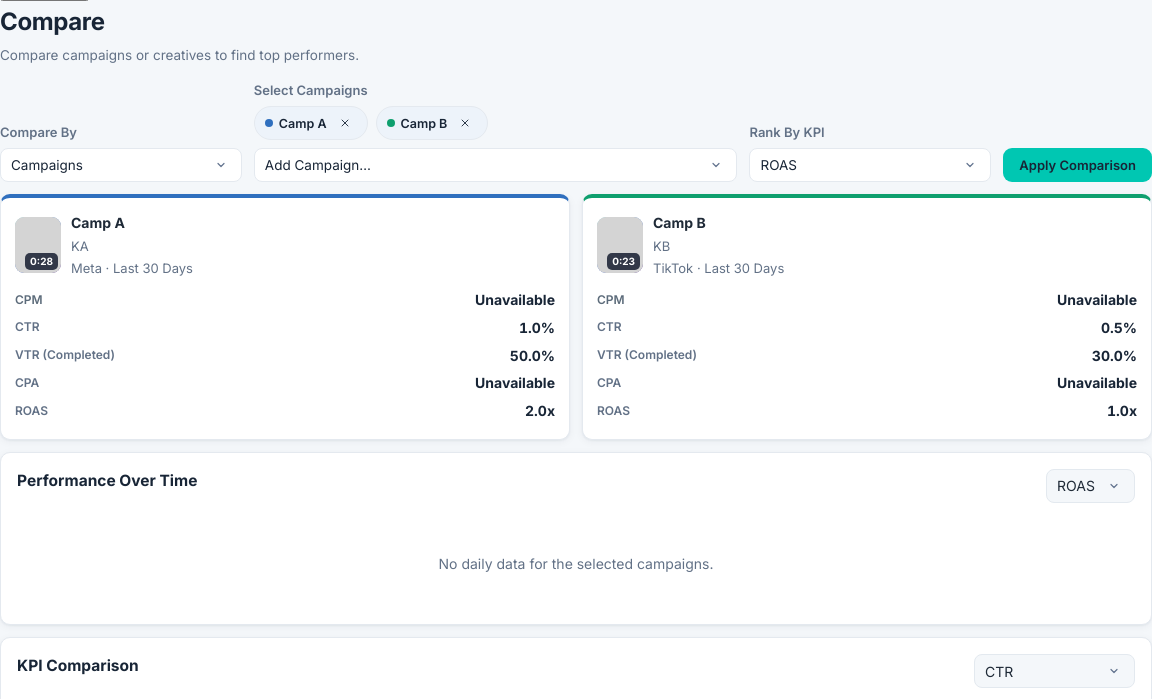
Test case: ComparePage › compares creatives with chips and backend ranking
The image size is (1152, 699).
expect the heading "Performance Over Time" is shown: met, box x1=17 y1=471 x2=198 y2=490
Select "Creatives" in the dropdown labelled "Compare By" at [121, 165], box x1=0 y1=148 x2=242 y2=182
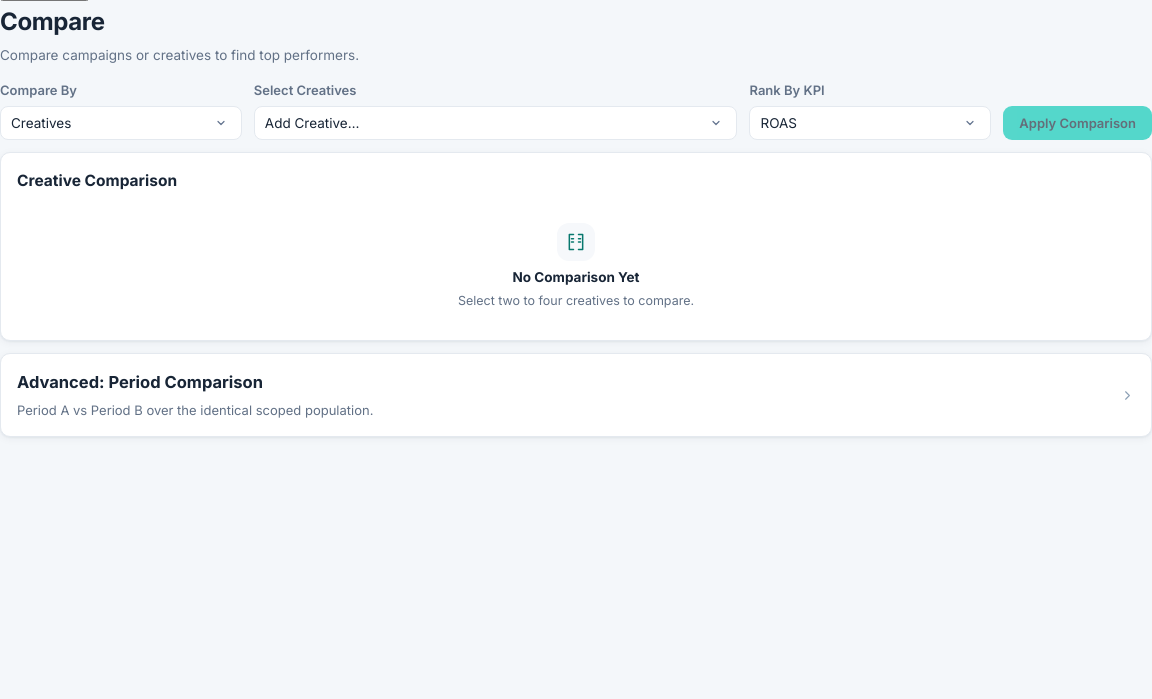
Select "KB" in the dropdown labelled "Select Creatives" at [496, 123], box x1=254 y1=106 x2=738 y2=140
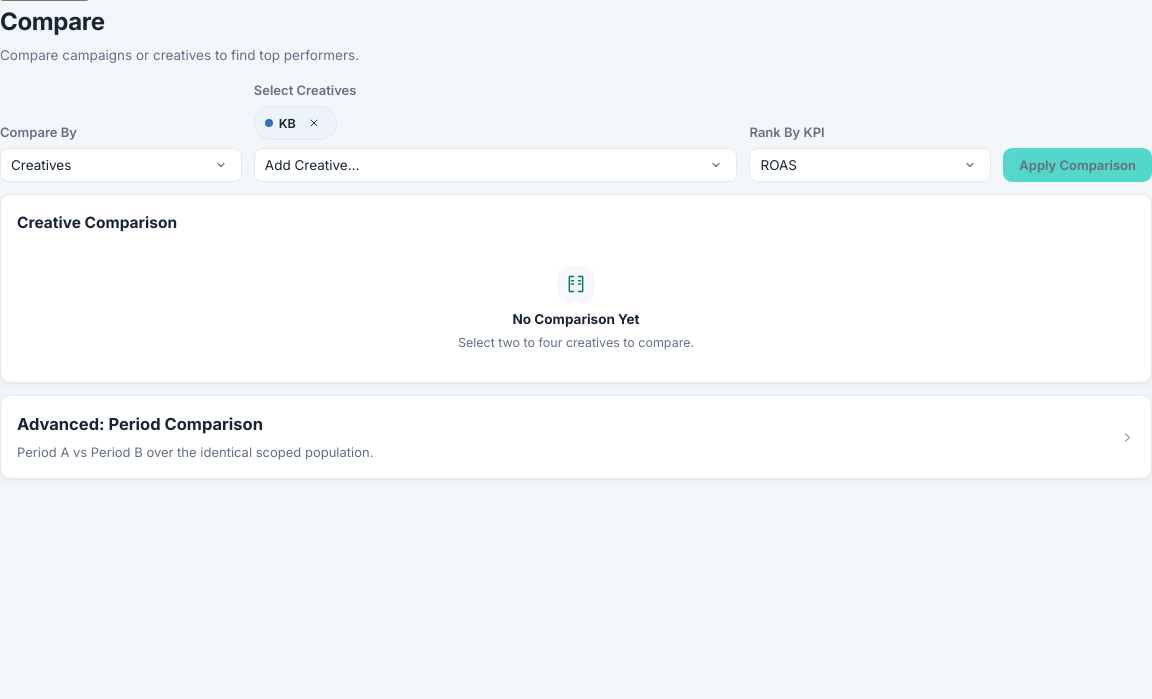
Select "KA" in the dropdown labelled "Select Creatives" at [496, 165], box x1=254 y1=148 x2=738 y2=182
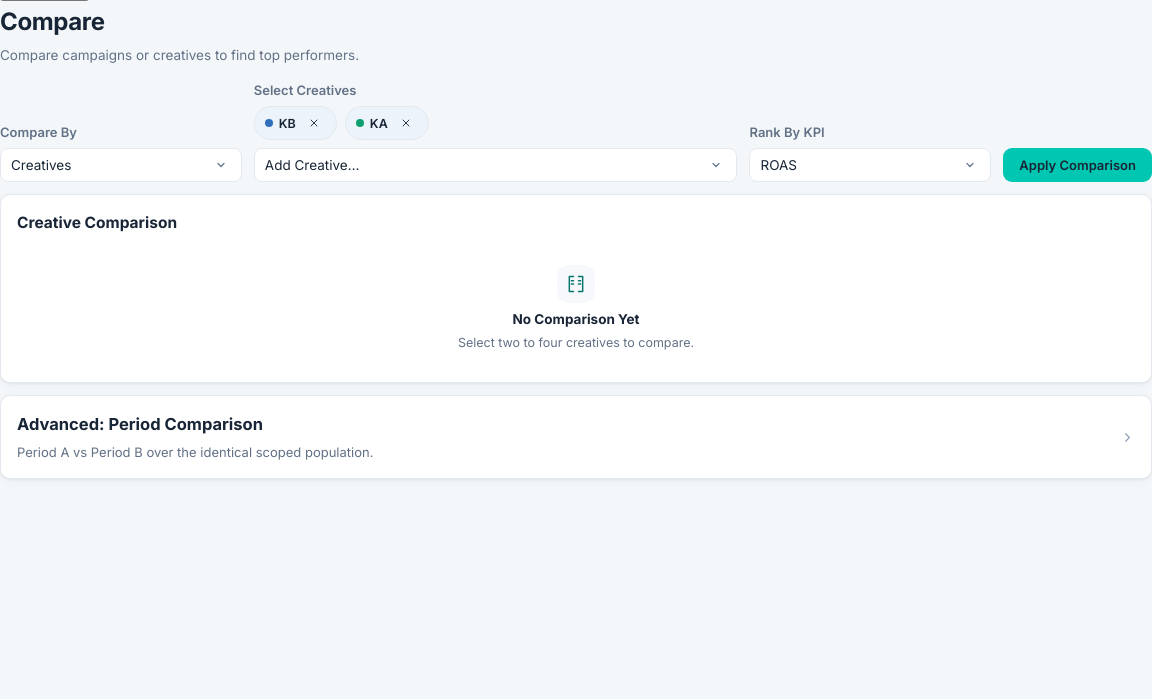
Click the button "Apply Comparison".
click(1078, 165)  # box x1=1003 y1=148 x2=1151 y2=182
(page scrolled)
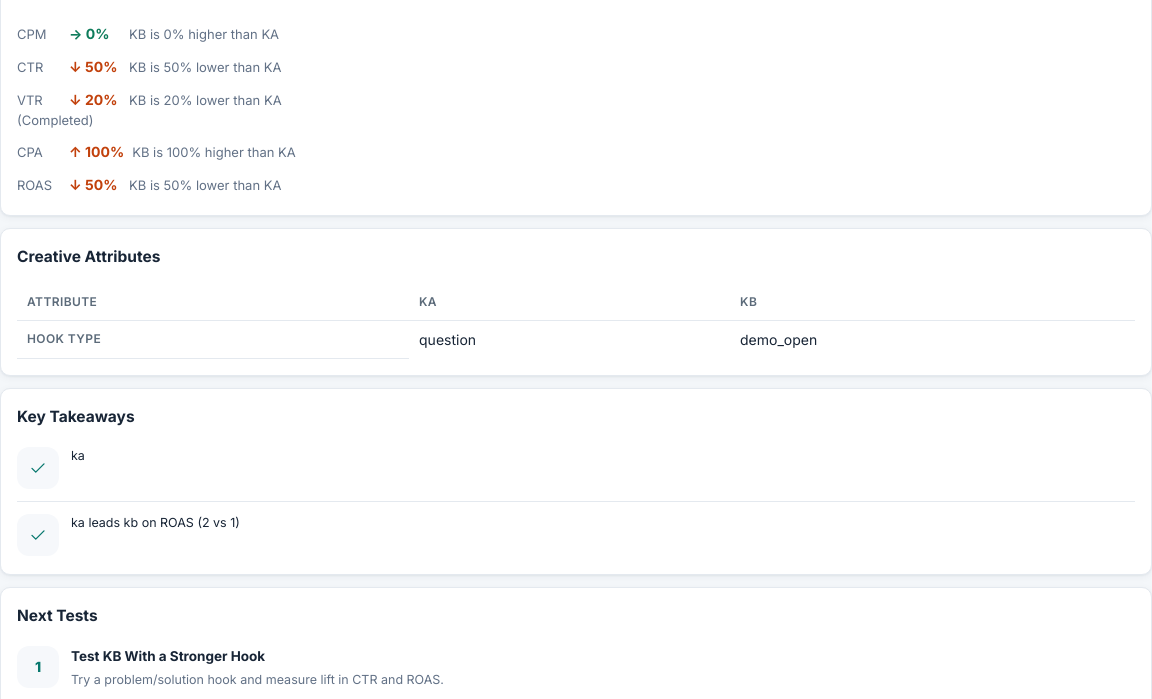
expect the column heading "Hook type" is shown: met, box x1=17 y1=320 x2=409 y2=359
